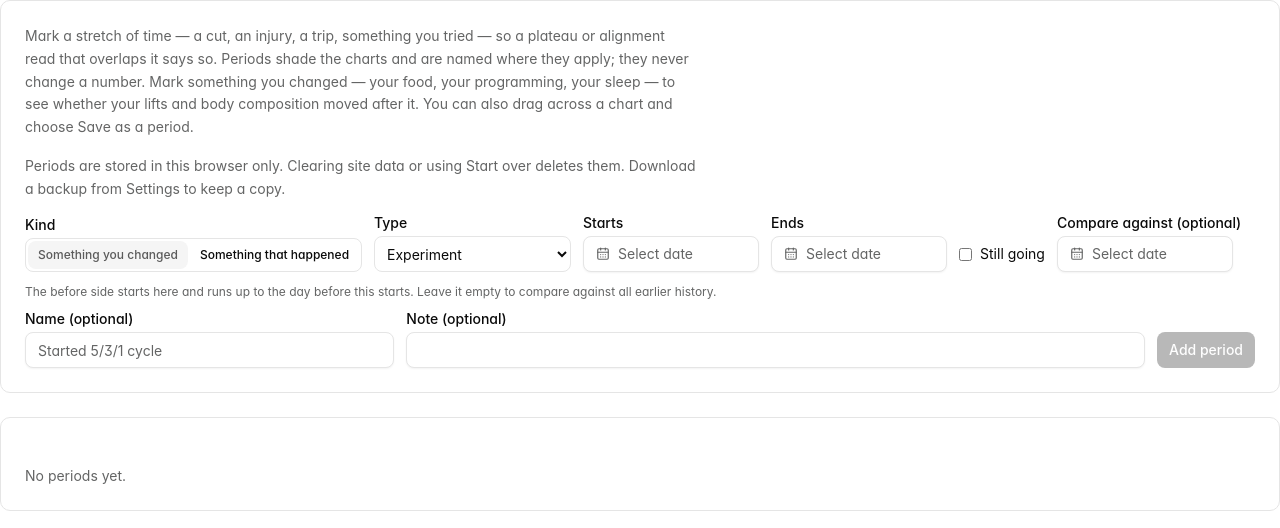
PeriodsTab › experiments › offers a compare-against date for anything you changed, and not for something that happened
This screenshot has width=1280, height=528.
Check: the button named "Compare against (optional)" is shown, box x1=1057 y1=236 x2=1233 y2=272
Select "Cut" in the dropdown labelled "Type" at (472, 254), box x1=374 y1=236 x2=571 y2=272
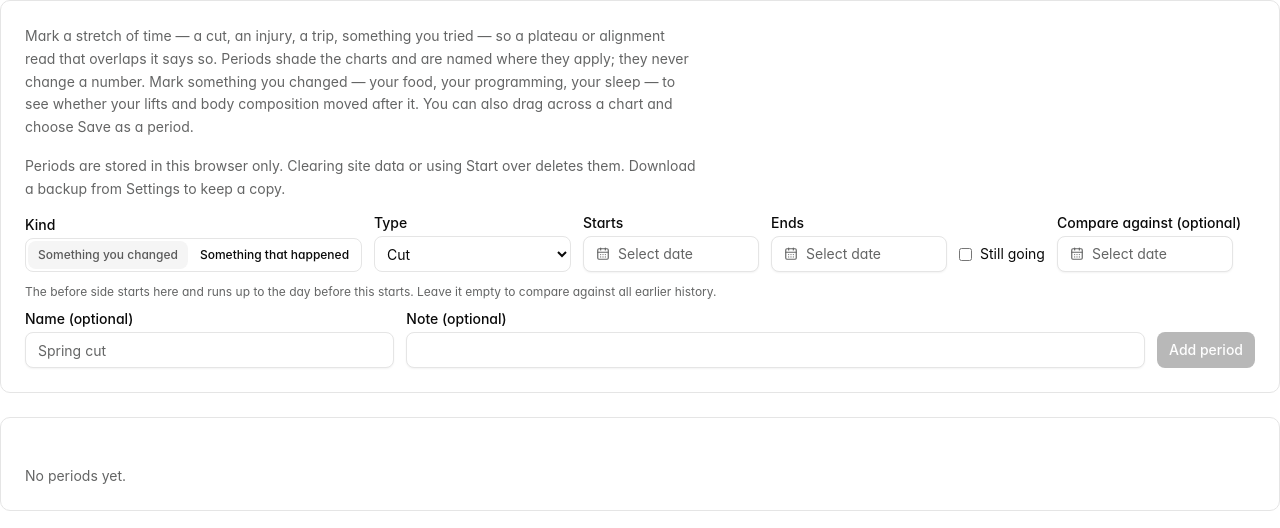
Check: the button named "Compare against (optional)" is shown, box x1=1057 y1=236 x2=1233 y2=272
Click the button "Something that happened".
click(274, 255)  # box x1=190 y1=241 x2=359 y2=269
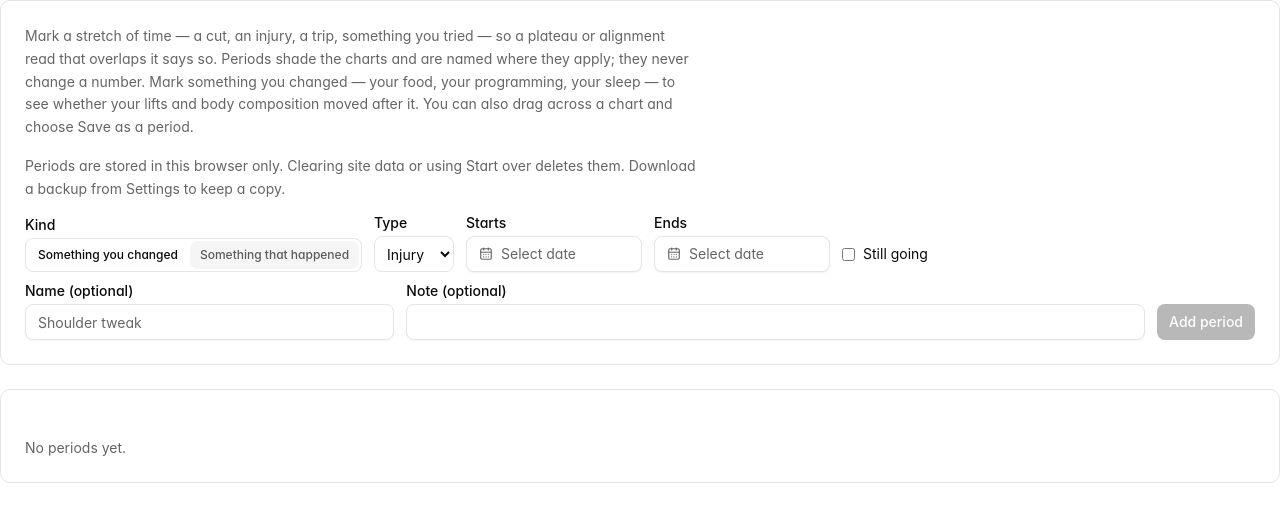
Check: the label labelled "Compare against (optional)" is gone
